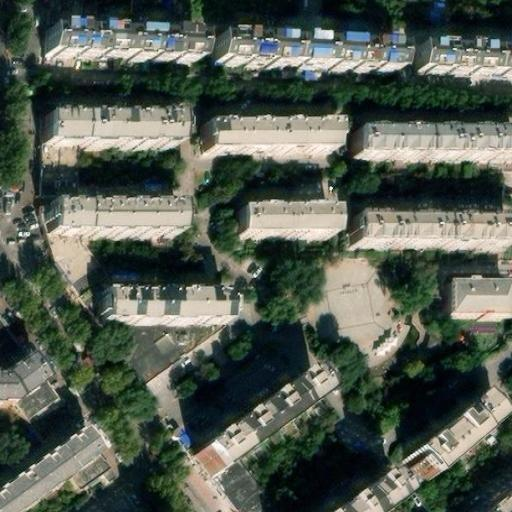building: (208, 363, 335, 470), (38, 199, 128, 323), (0, 427, 98, 512), (103, 323, 232, 382), (405, 402, 497, 483), (213, 32, 401, 71), (48, 23, 204, 62), (351, 216, 510, 248), (350, 131, 512, 158), (44, 115, 176, 148), (51, 199, 180, 232), (201, 122, 337, 152), (103, 293, 232, 323), (414, 43, 512, 76), (210, 463, 272, 512), (234, 208, 336, 237), (452, 283, 512, 317), (466, 472, 512, 511), (44, 148, 76, 197), (338, 485, 391, 512), (189, 447, 226, 484)
